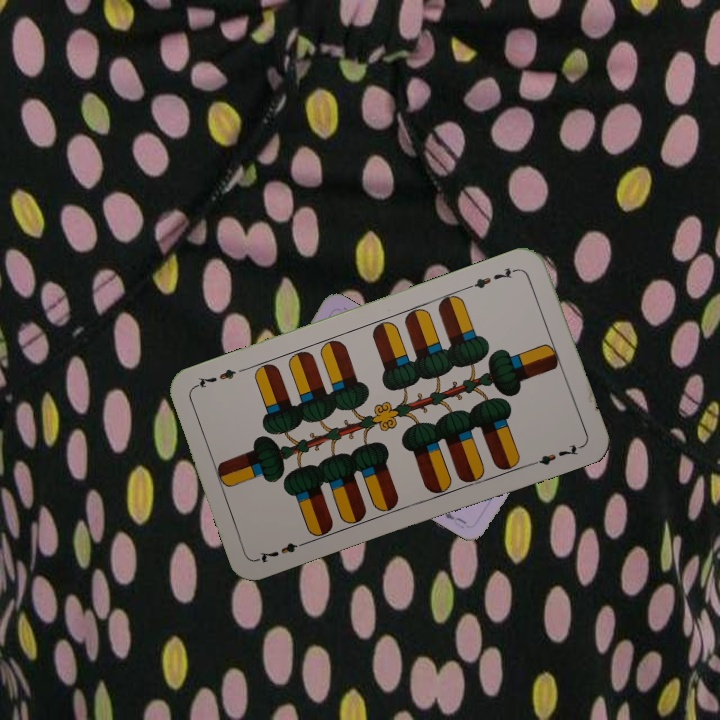E7: (464, 263, 521, 292), (254, 537, 311, 566)
